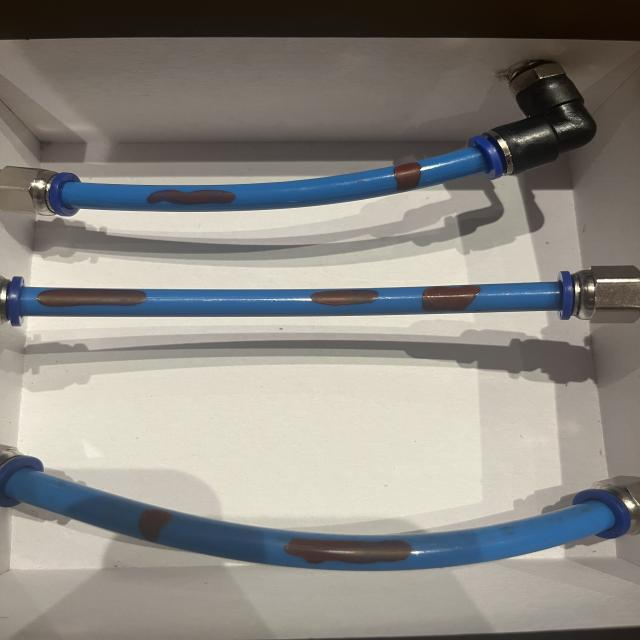hose_damage: (277, 535, 416, 567), (32, 285, 151, 308), (128, 503, 181, 548), (414, 283, 482, 316), (144, 187, 236, 208), (306, 288, 378, 306), (390, 161, 422, 193)
